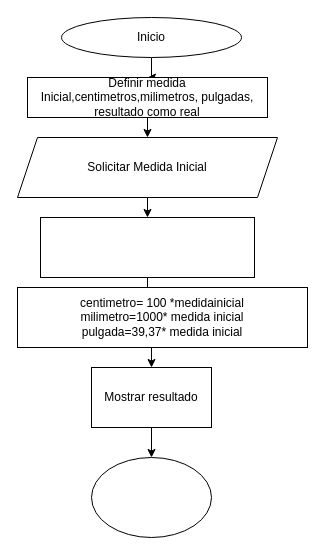
Some shapes in this 325 by 555 pixel diagram are drawn without their labels. Each missing label, with the box of its shape:
Escribir medida inicial: (40, 216, 254, 278)
Fin: (90, 456, 212, 538)
